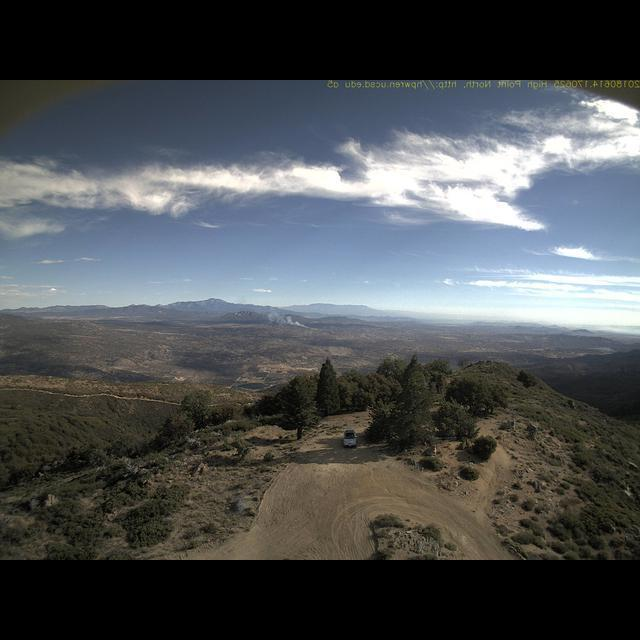Smoke: (259, 302, 320, 329)
